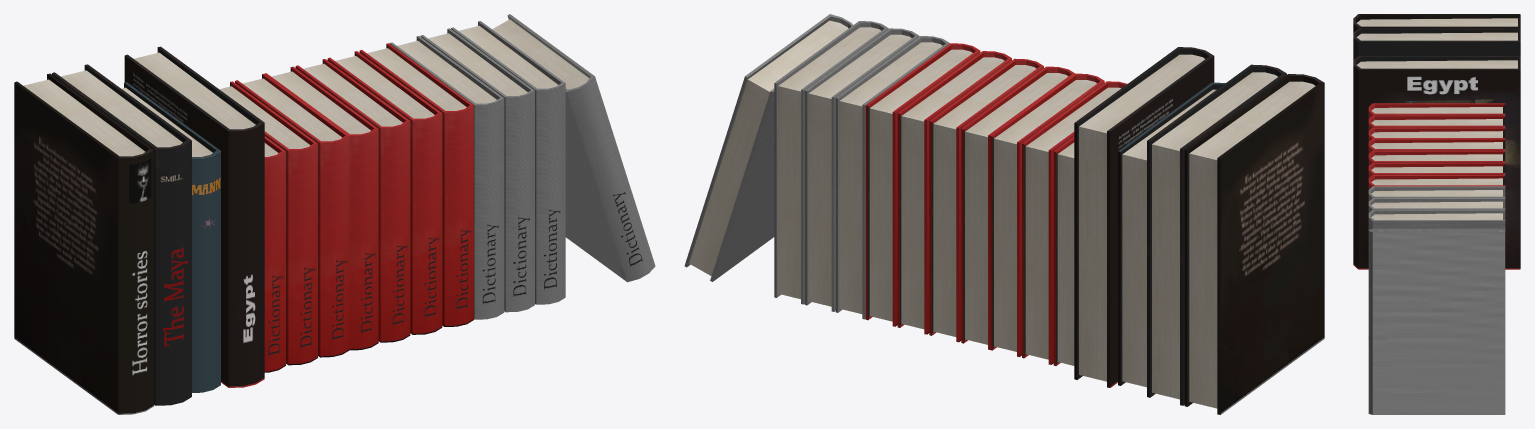
Rendered from Books 2.FBX.
3 renders of one model, left to right at view 1: azimuth 30°, elevation 25°; view 2: azimuth 150°, elevation 25°; view 3: azimuth 270°, elevation 25°, orthographic. The views are drawn at different scales.
Visible parts, largest first — view 1: Books 2; view 2: Books 2; view 3: Books 2.
Boxes of the visible parts, x1,y1,x2,y2 form: Books 2: (14, 14, 655, 414); Books 2: (684, 14, 1324, 414); Books 2: (1353, 14, 1520, 414).
Bounding box in the file's own units: 62.04 × 27.91 × 21.13.
Materials: 1 (1 with a texture image).
